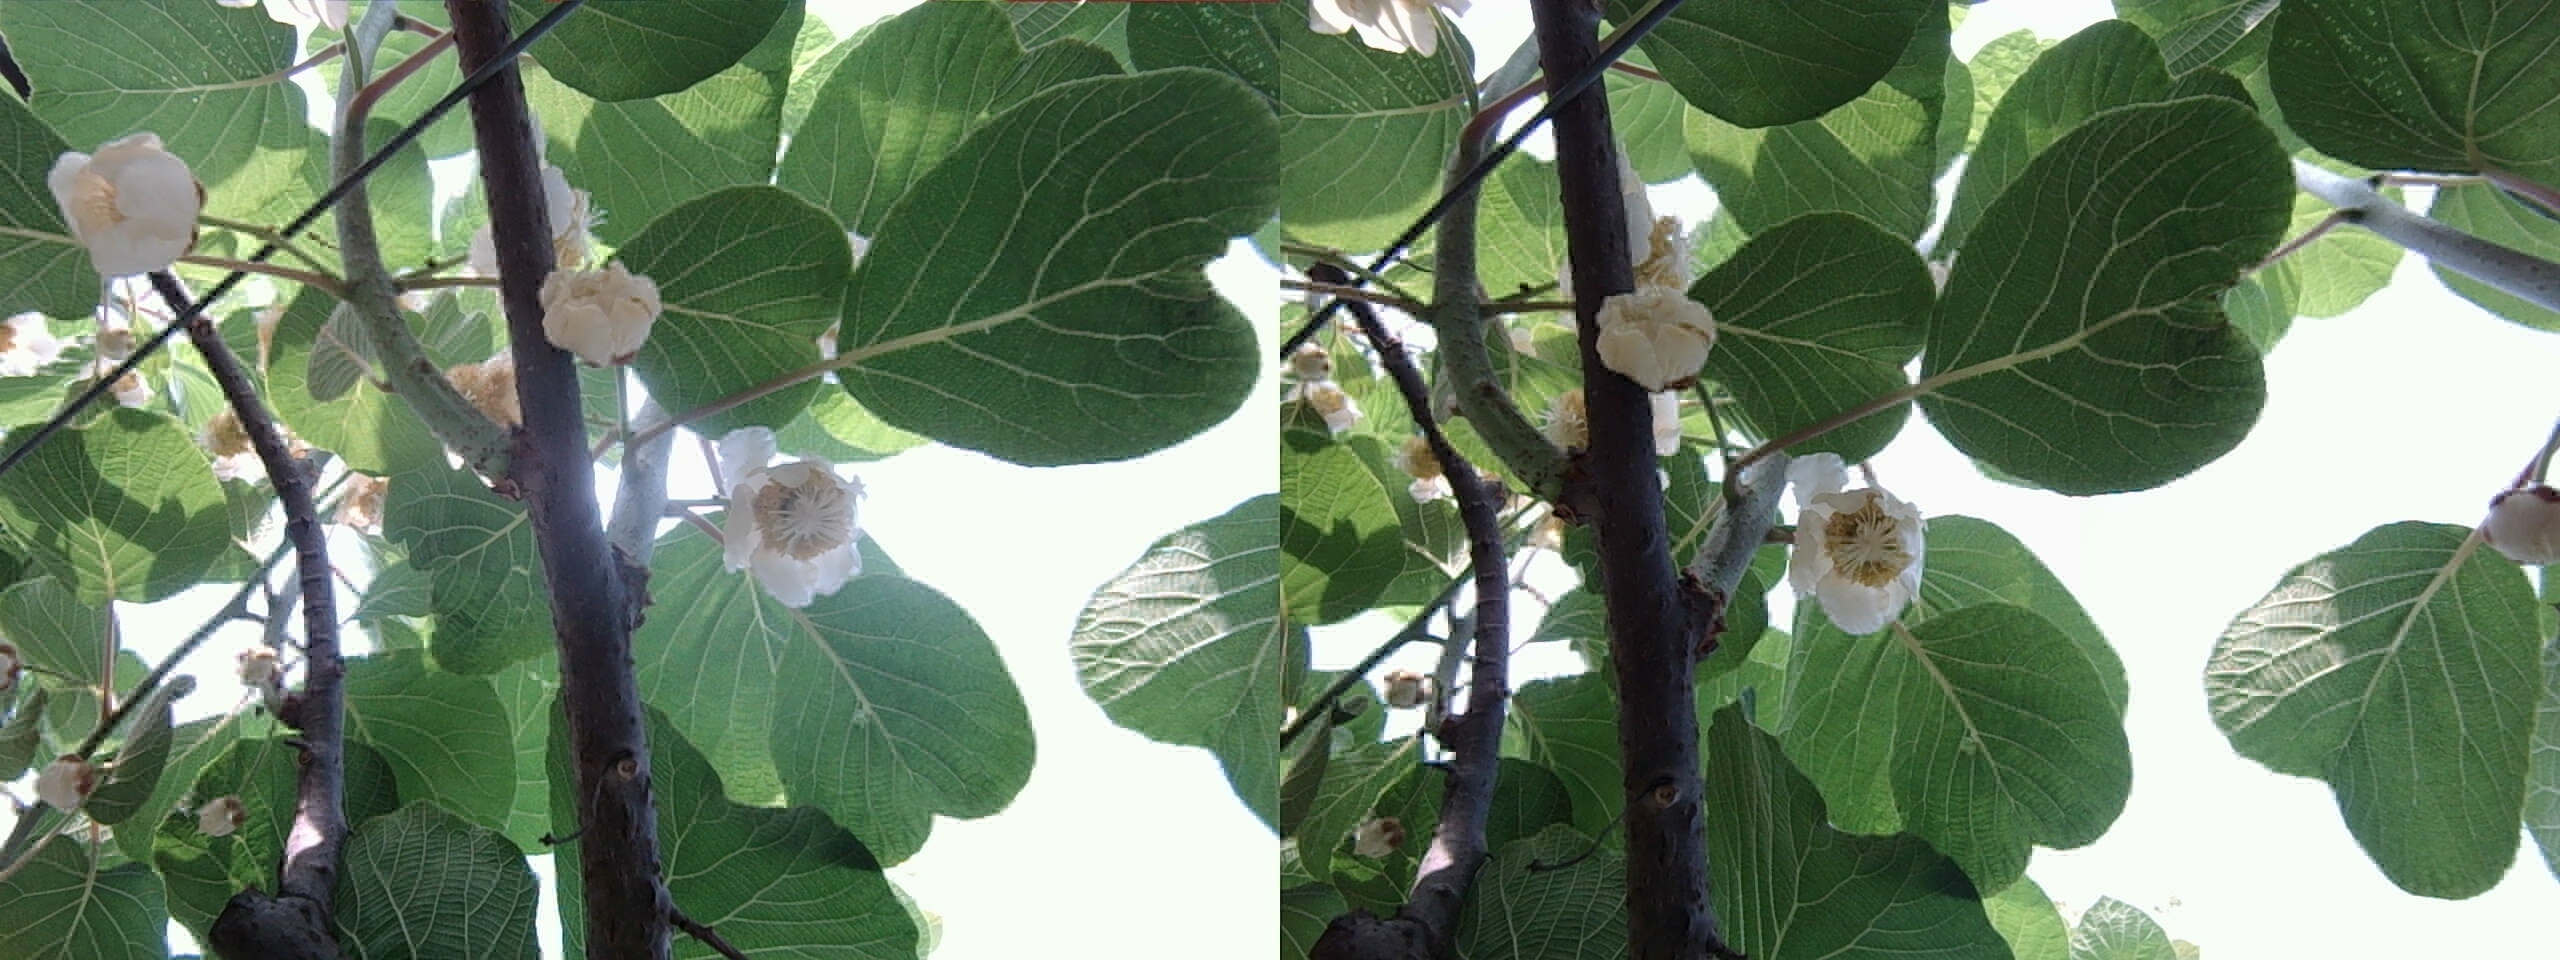flower: (712, 438, 875, 607), (1788, 460, 1927, 632), (536, 248, 661, 366), (1600, 279, 1713, 384)
